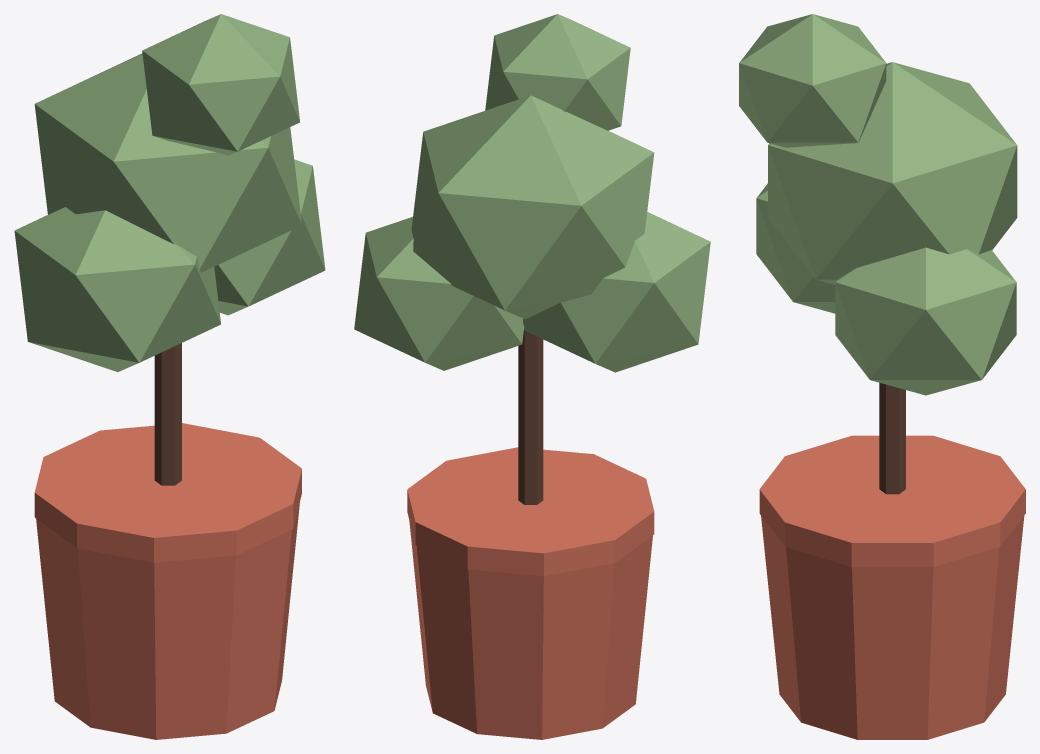
File: plant_tall.glb
3 renders of one model, left to right at view 1: azimuth 30°, elevation 25°; view 2: azimuth 150°, elevation 25°; view 3: azimuth 270°, elevation 25°, orthographic. The views are drawn at different scales.
Visible parts, largest first — view 1: plant_tall; view 2: plant_tall; view 3: plant_tall.
Boxes of the visible parts, left/top/right/bottom form: plant_tall: left=14, top=14, right=325, bottom=739; plant_tall: left=354, top=14, right=710, bottom=739; plant_tall: left=739, top=14, right=1025, bottom=739.
Size of the model in its own units: 0.5452 by 1.14 by 0.4306.
